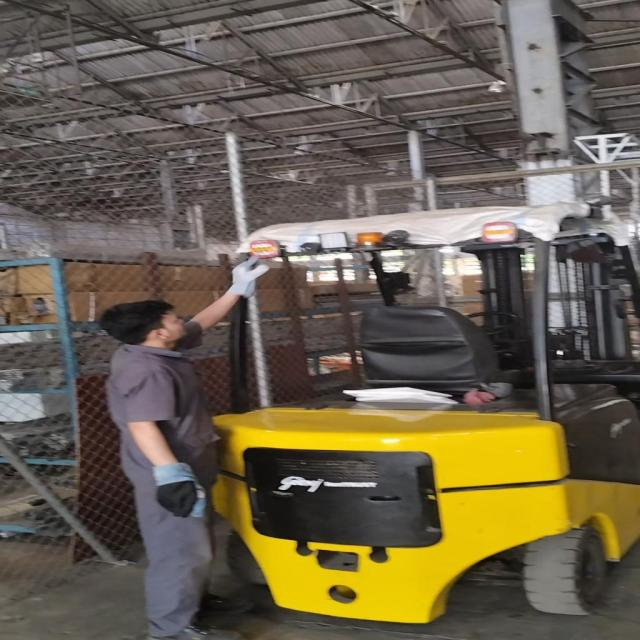Gloves-Detection: (148, 452, 215, 530), (223, 250, 264, 300)
